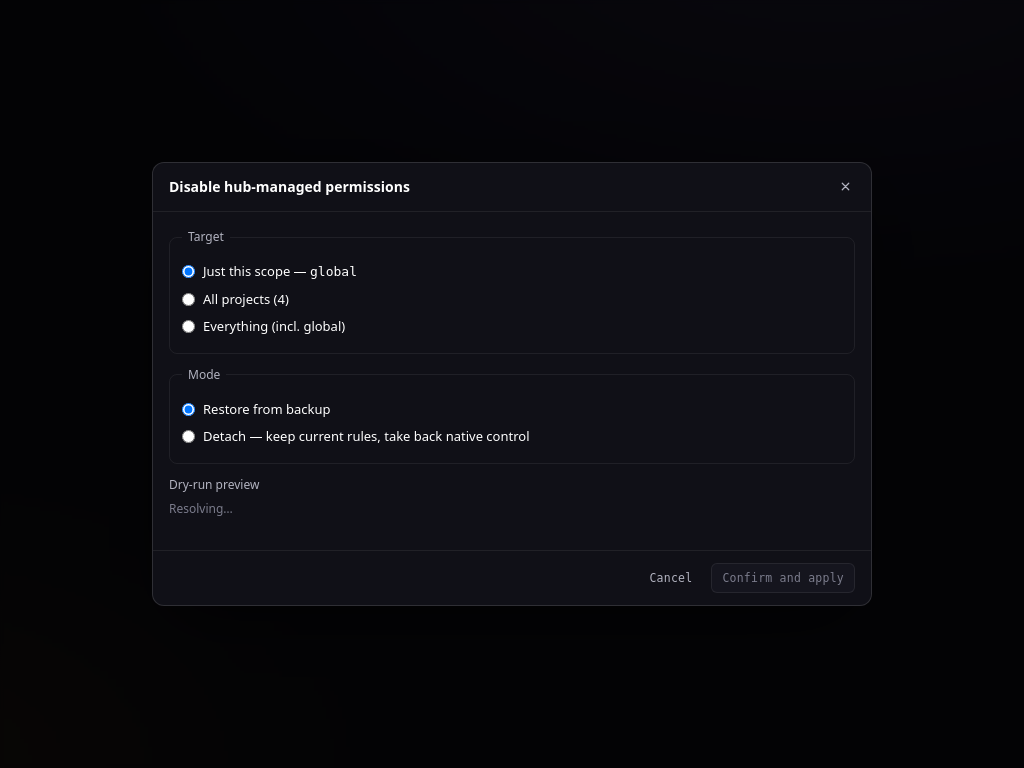
Test: DisableDialog › requires the softer checkbox when target = All projects
The image size is (1024, 768).
Click the radio button labelled "All projects (4)": (188, 299) x1=182 y1=293 x2=195 y2=306
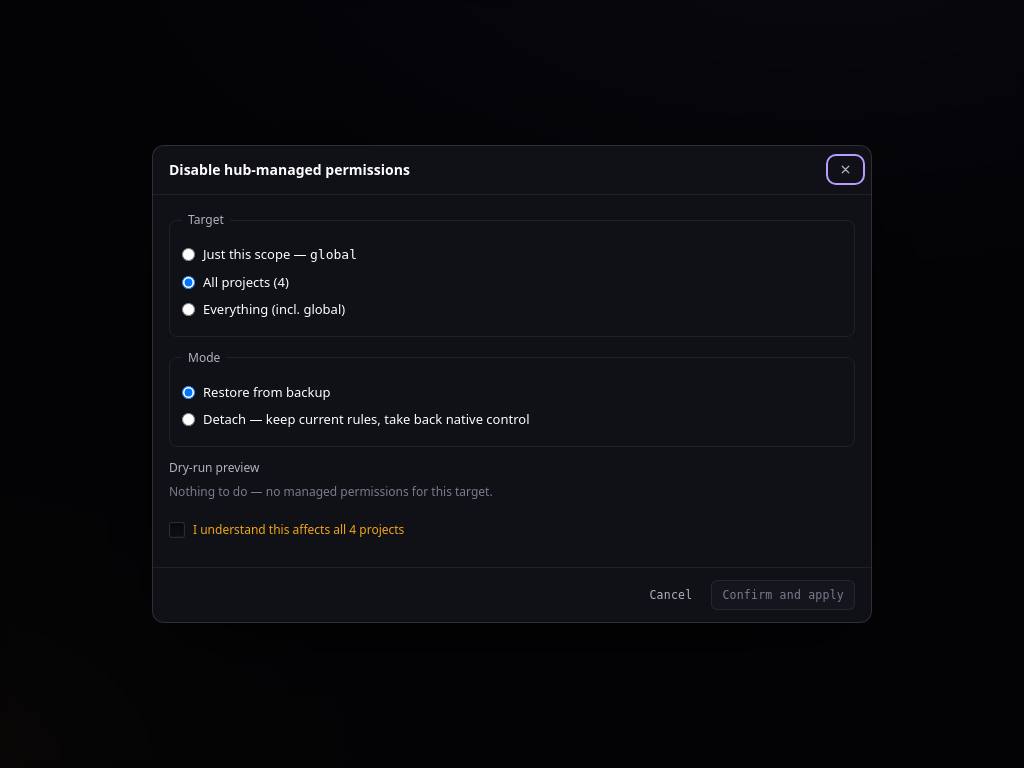
Check: the text "I understand this affects all 4 projects" is shown, box x1=193 y1=521 x2=404 y2=538
